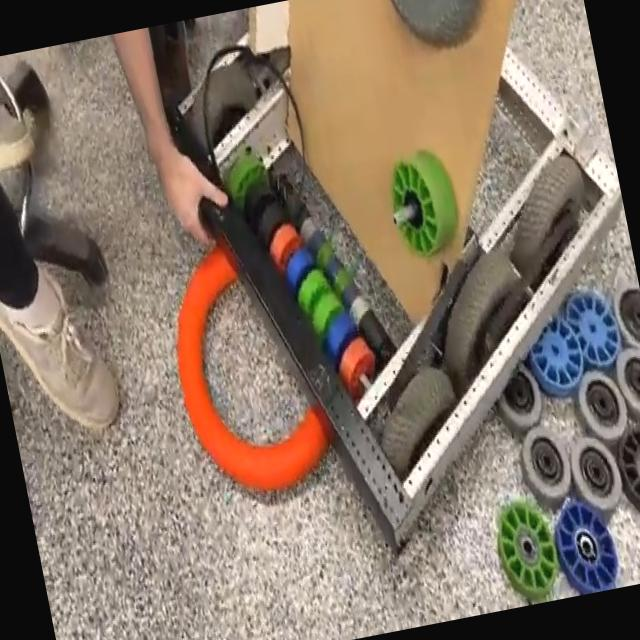note: (150, 205, 400, 512)
